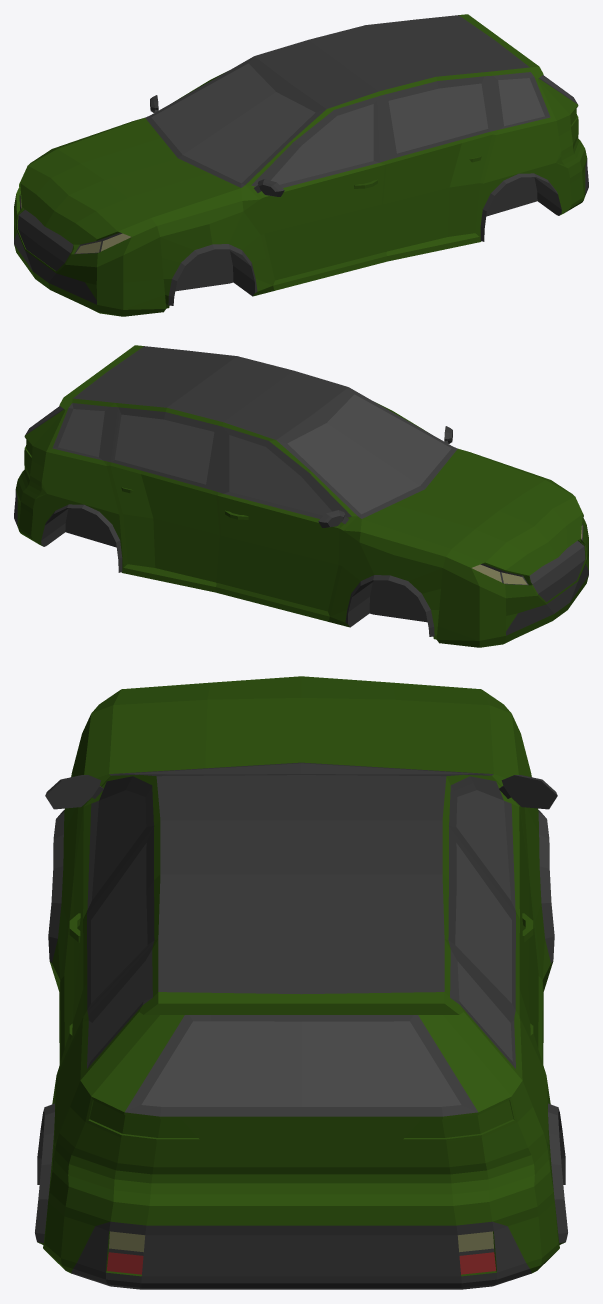
The model's file is Auto.fbx.
The picture shows the model from 3 angles, top to bottom: view 1: azimuth 30°, elevation 25°; view 2: azimuth 150°, elevation 25°; view 3: azimuth 270°, elevation 25°; orthographic projection. The views are drawn at different scales.
Parts seen in each view (by area): view 1: Cube; view 2: Cube; view 3: Cube.
Part boxes in pixels (<box>): Cube: <box>14,14,588,316</box>; Cube: <box>14,345,588,647</box>; Cube: <box>35,676,567,1289</box>.
Bounding box in the file's own units: 462 × 135 × 212.
